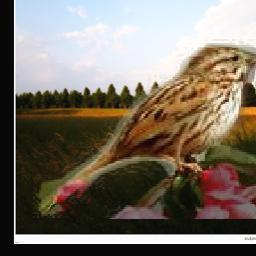Sparrow: (34, 39, 256, 219)
